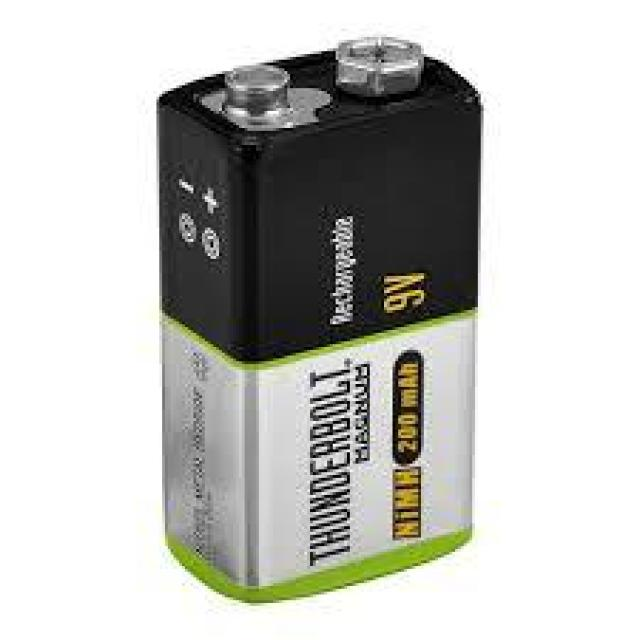9V: (139, 24, 495, 610)
